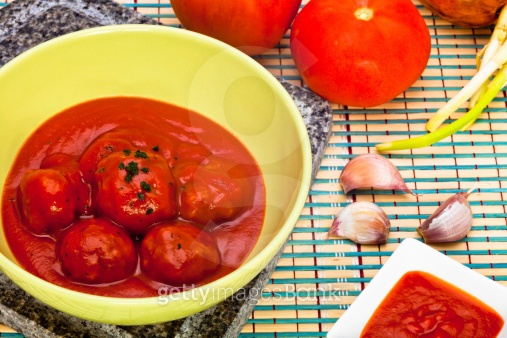meatballs: (13, 136, 265, 275), (95, 151, 185, 229)
